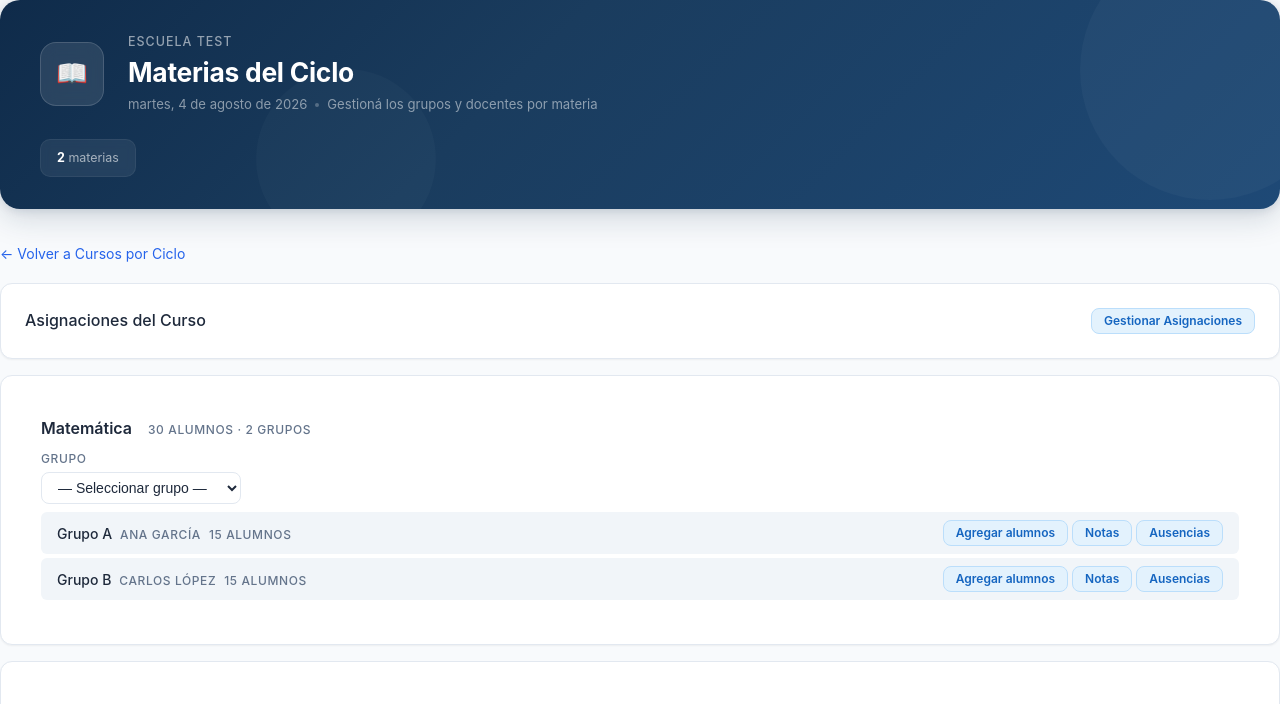
Test case: AsignacionCursoPanelInline — rol select options (SPEC-7/SC-07) › SC-07: rol select renders all 6 RolCurso options with Spanish labels
This screenshot has width=1280, height=704.
Expected: the text "Matemática" is shown, x1=41 y1=418 x2=132 y2=438
# Open asignaciones panel (management only)
What coordinates should you click on to do the following:
click the button with test id "btn-asignacion-curso"
I would click on:
 (1173, 321)
Its box is x1=1091 y1=308 x2=1255 y2=334.
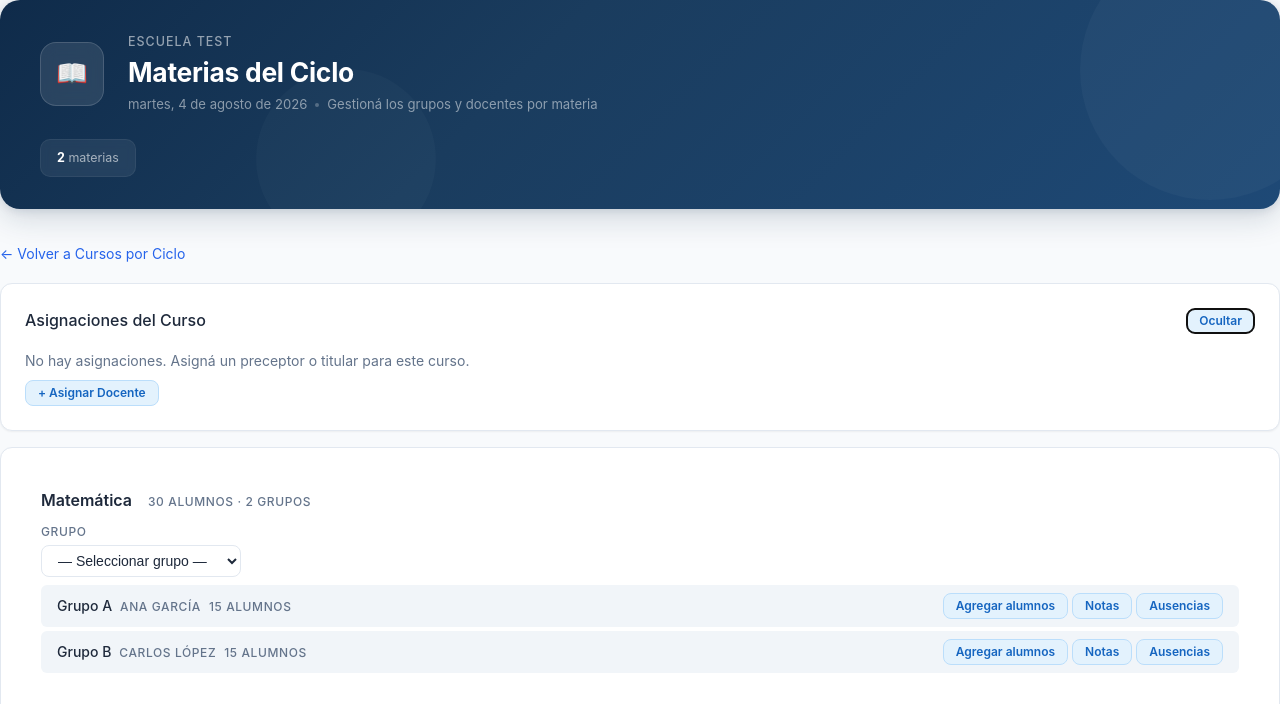
Expected: the button "+ Asignar Docente" is shown
# Open the assignment form
What coordinates should you click on to do the following:
click the button "+ Asignar Docente"
I would click on:
 (92, 393)
Its box is x1=25 y1=380 x2=159 y2=406.
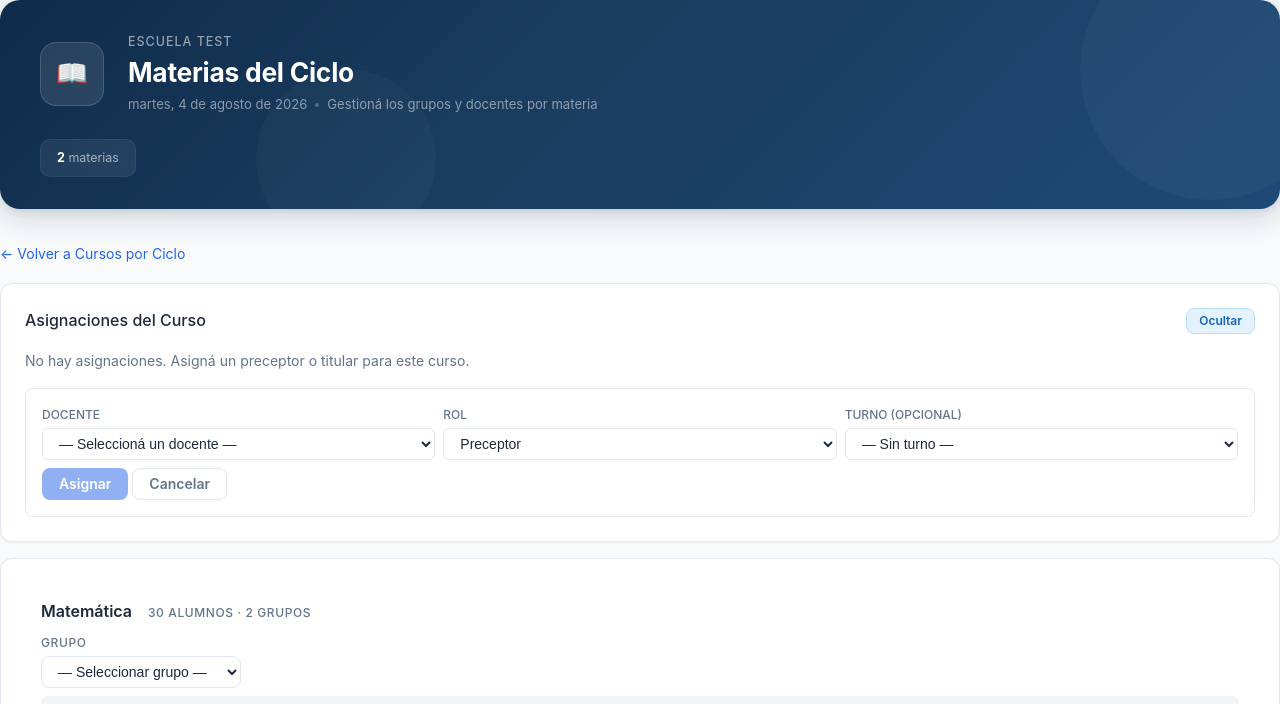
Expected: the text "preceptor" is shown, x1=25 y1=352 x2=469 y2=369
Expected: the text "titular" is shown, x1=25 y1=352 x2=469 y2=369
Expected: the dropdown with test id "rol-select" is shown, x1=443 y1=428 x2=837 y2=460
